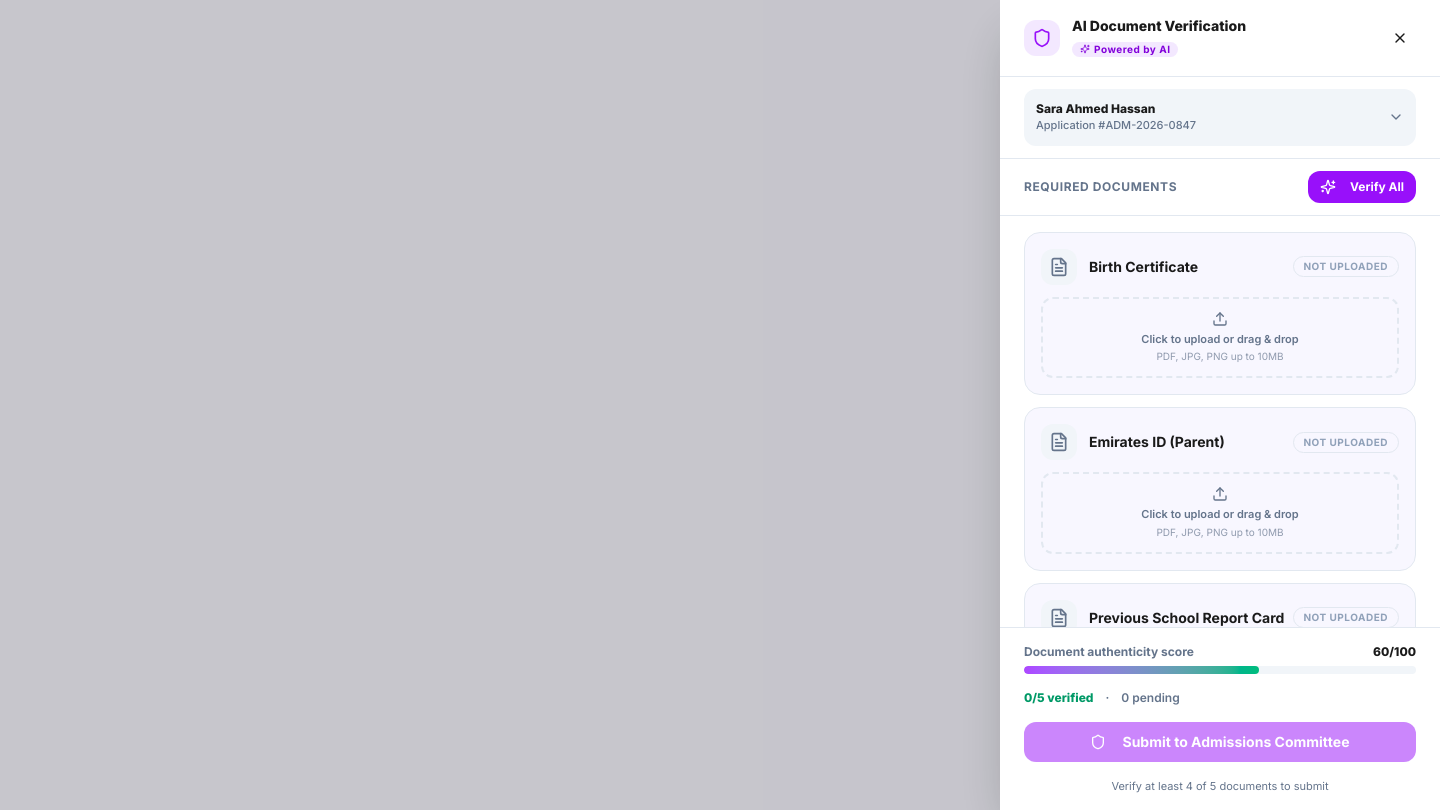
Test case: AIDocumentVerification › clicking the upload dropzone marks a doc as uploaded and reveals the Verify button
Click the text "Click to upload or drag & drop" below "Birth Certificate" at (1220, 338), box [1141,332,1299,346]
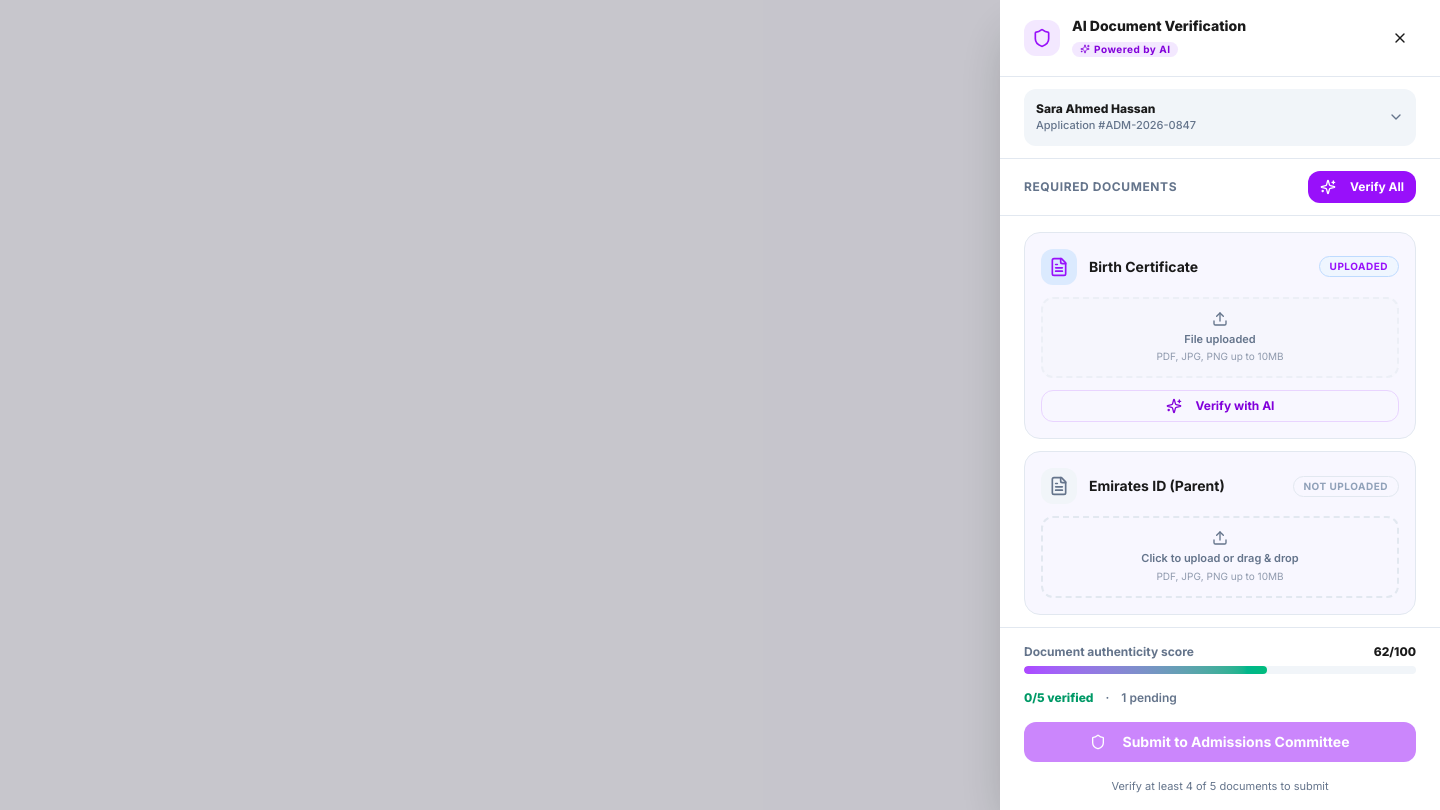
Expected: the text "Uploaded" is shown, [1319,256,1399,277]
Expected: the button "Verify with AI" is shown, [1041,390,1399,422]
